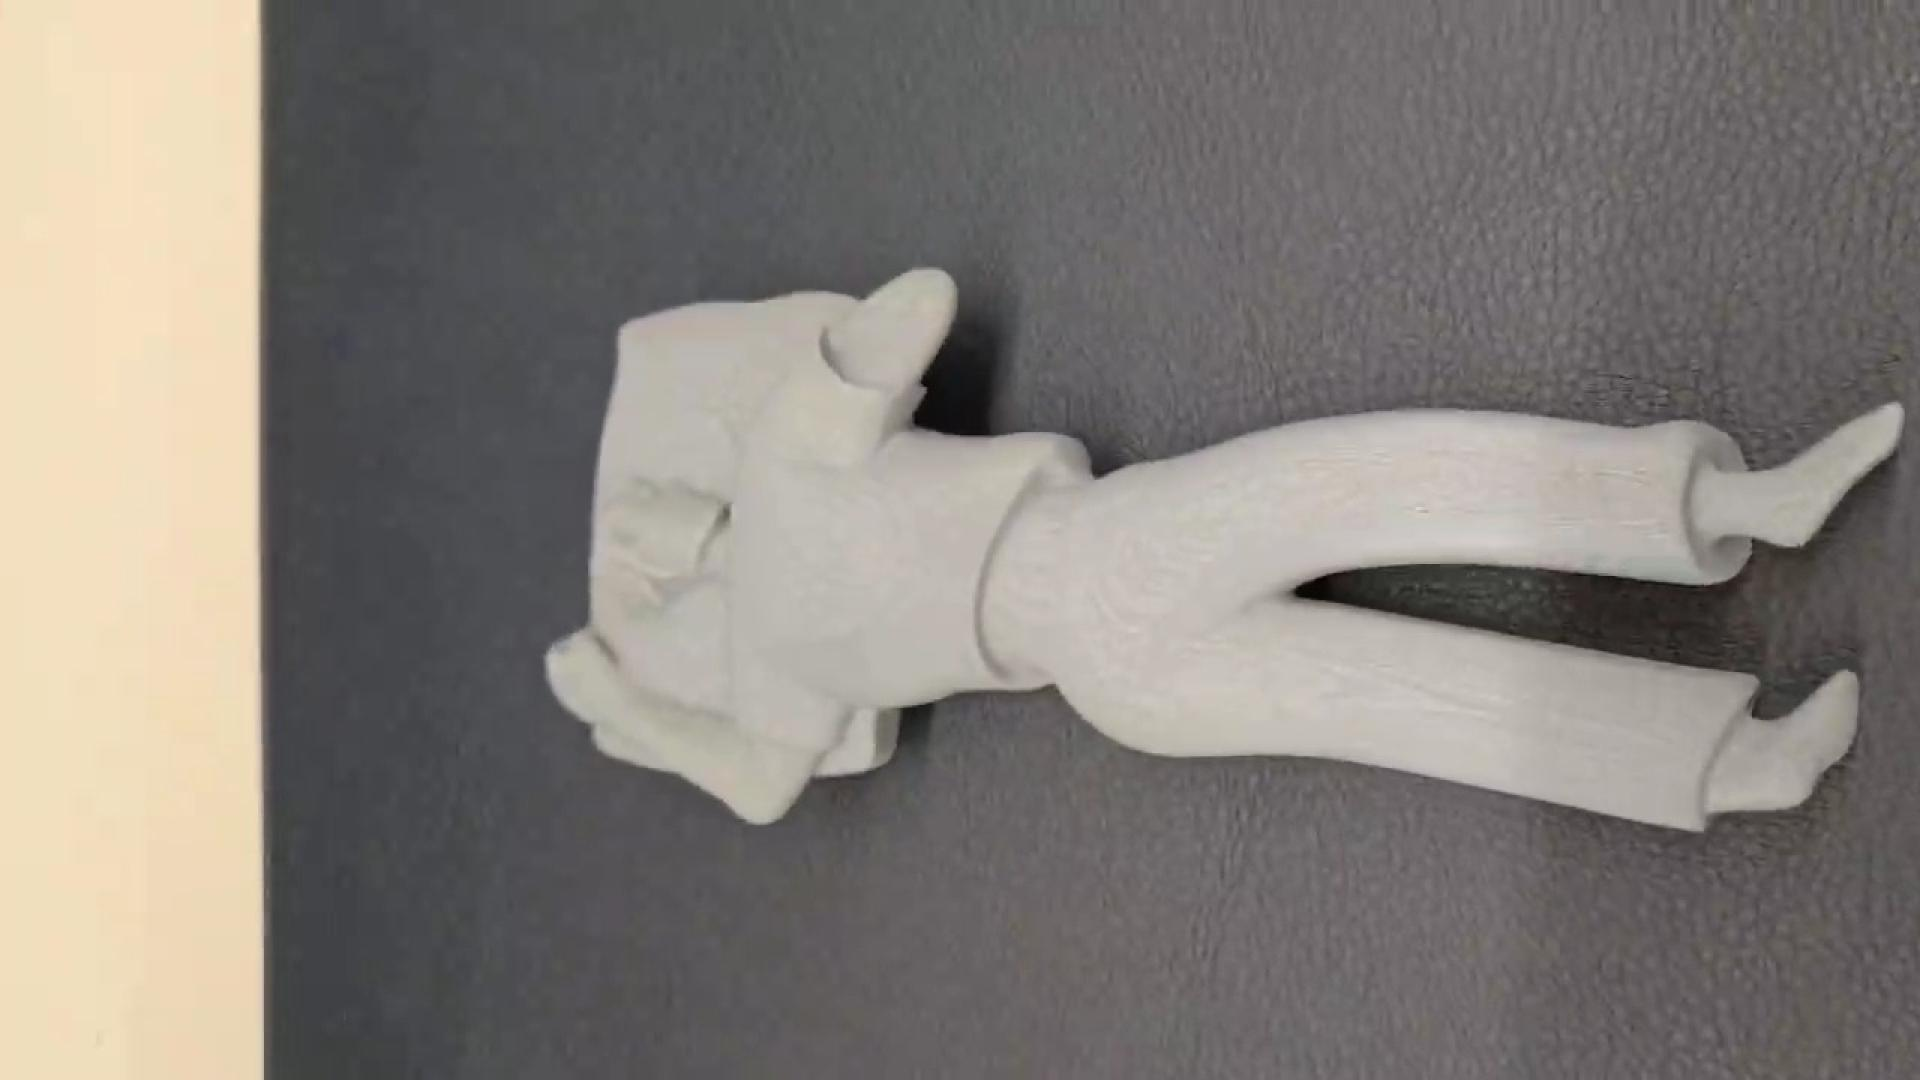Bad-style: (541, 264, 1920, 841)
